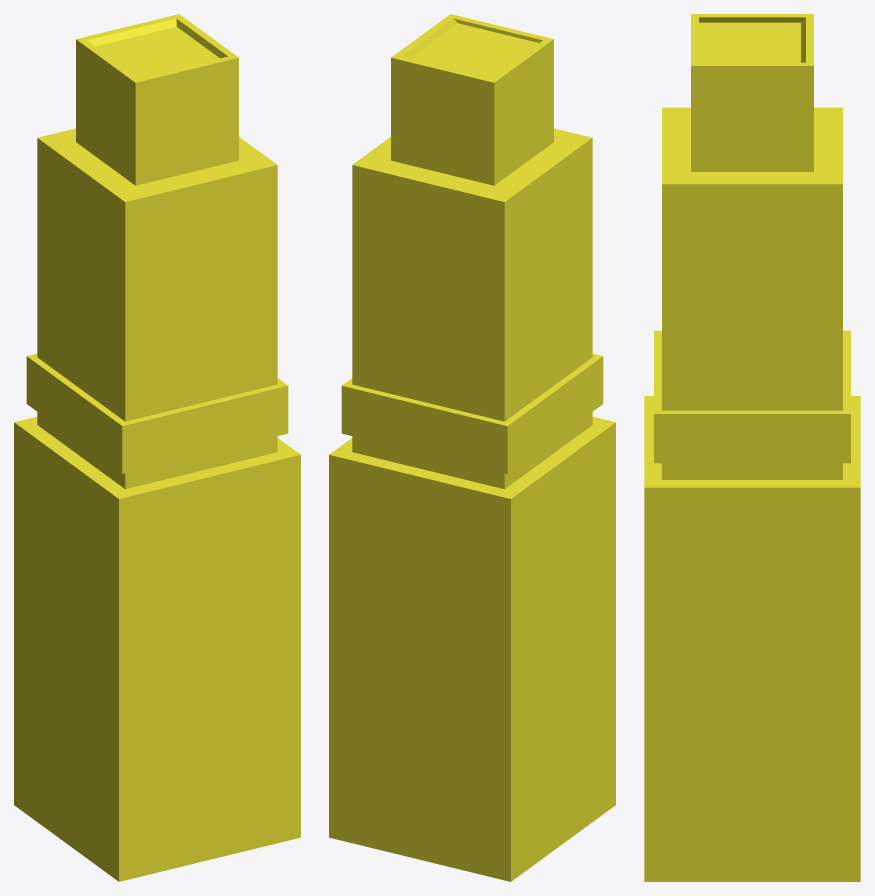
Rendered from Building4_yellow.fbx.
3 renders of one model, left to right at view 1: azimuth 30°, elevation 25°; view 2: azimuth 150°, elevation 25°; view 3: azimuth 270°, elevation 25°, orthographic. The views are drawn at different scales.
Parts seen in each view (by area): view 1: Building 4; view 2: Building 4; view 3: Building 4.
Part boxes in pixels (bbox=[...]): Building 4: bbox=[14, 14, 300, 881]; Building 4: bbox=[329, 14, 615, 881]; Building 4: bbox=[644, 14, 860, 881].
Size of the model in its own units: 1195 by 4853 by 1195.
1 material, 1 textured.
